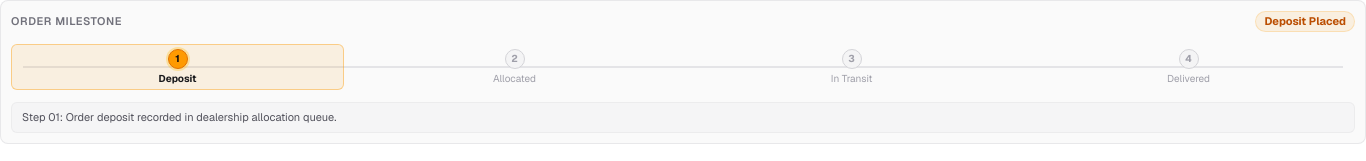
Test: OrderStageIndicator Component › Full rendering (Card banner mode) › allows clicking milestone step buttons to view guidance details
Click the button with test id "order-stage-step-allocation_confirmed" at (514, 67), box [348,44,681,90]
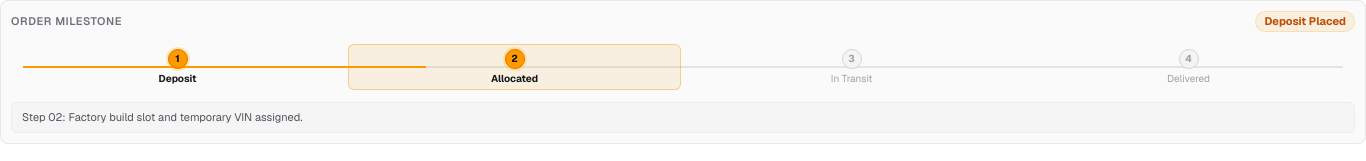
Result: the text with test id "order-stage-guidance" reads "Step 02: Factory build slot and temporary VIN assigned." at [22,110,302,124]
